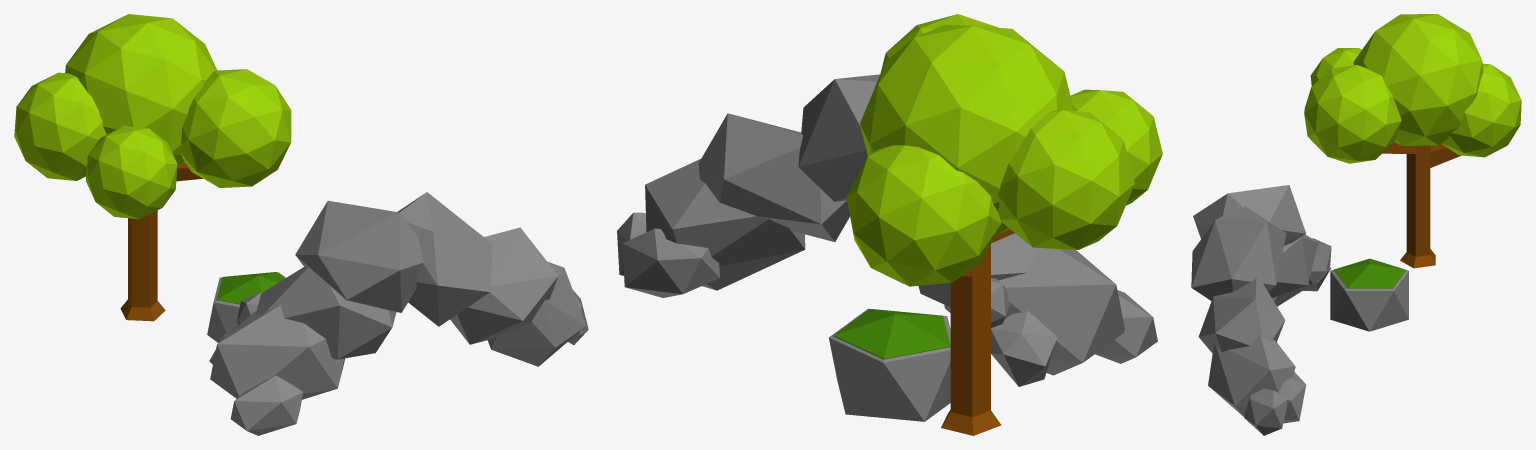
Rendered from Low Poly Environment Assets 2.fbx.
The picture shows the model from 3 angles, left to right: view 1: azimuth 30°, elevation 25°; view 2: azimuth 150°, elevation 25°; view 3: azimuth 270°, elevation 25°; orthographic projection. The views are drawn at different scales.
Parts seen in each view (by area): view 1: RockArch, TreeLarge, Rock3; view 2: TreeLarge, RockArch, Rock3; view 3: TreeLarge, RockArch, Rock3.
Boxes of the visible parts, bbox=[...] form: RockArch: bbox=[209, 192, 588, 435]; TreeLarge: bbox=[14, 14, 291, 321]; Rock3: bbox=[207, 272, 285, 342]; TreeLarge: bbox=[846, 14, 1162, 435]; RockArch: bbox=[617, 74, 1157, 386]; Rock3: bbox=[829, 308, 950, 421]; TreeLarge: bbox=[1304, 14, 1521, 268]; RockArch: bbox=[1191, 185, 1331, 435]; Rock3: bbox=[1330, 258, 1408, 331].
Size of the model in its own units: 19.88 by 13.83 by 14.6.
